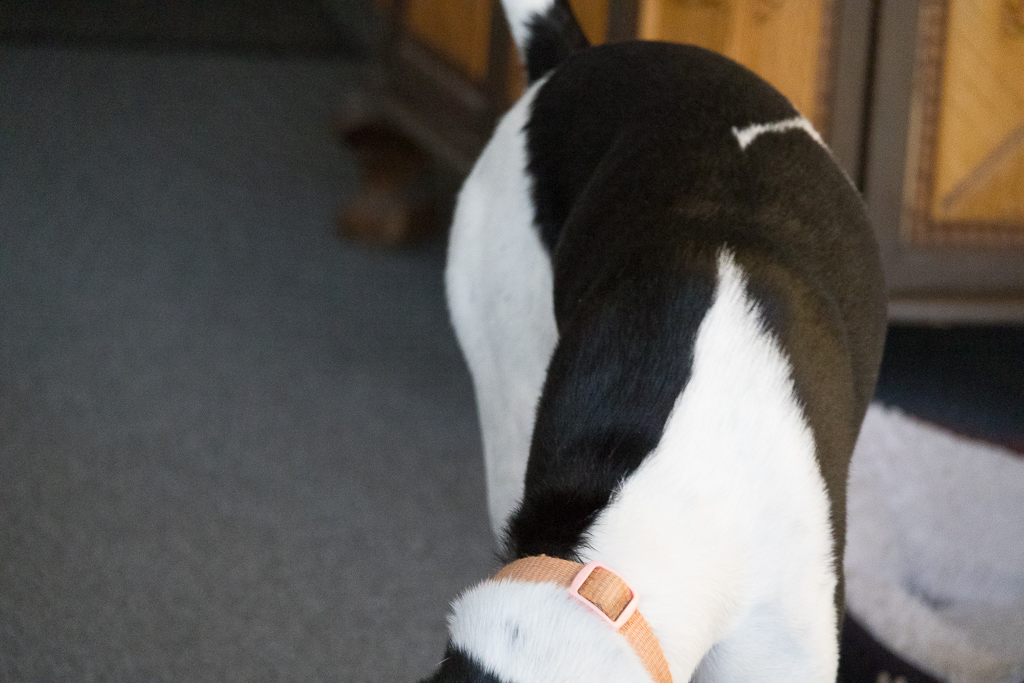Dog: (400, 0, 903, 683)
